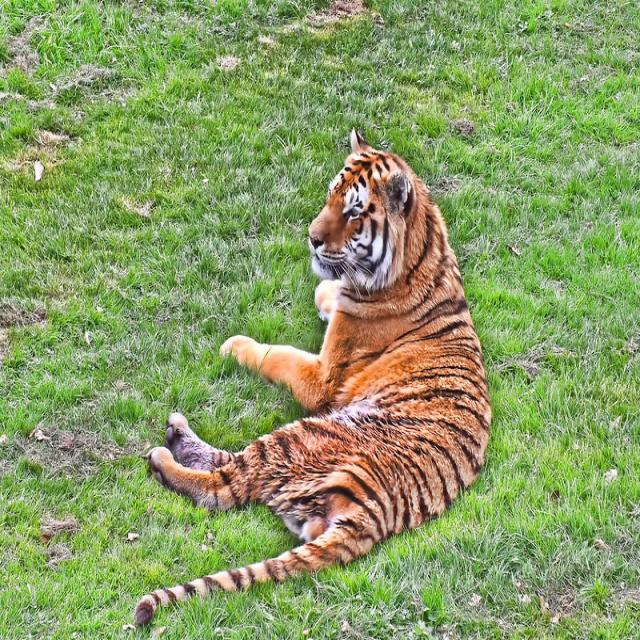Tiger: (126, 114, 498, 618)
